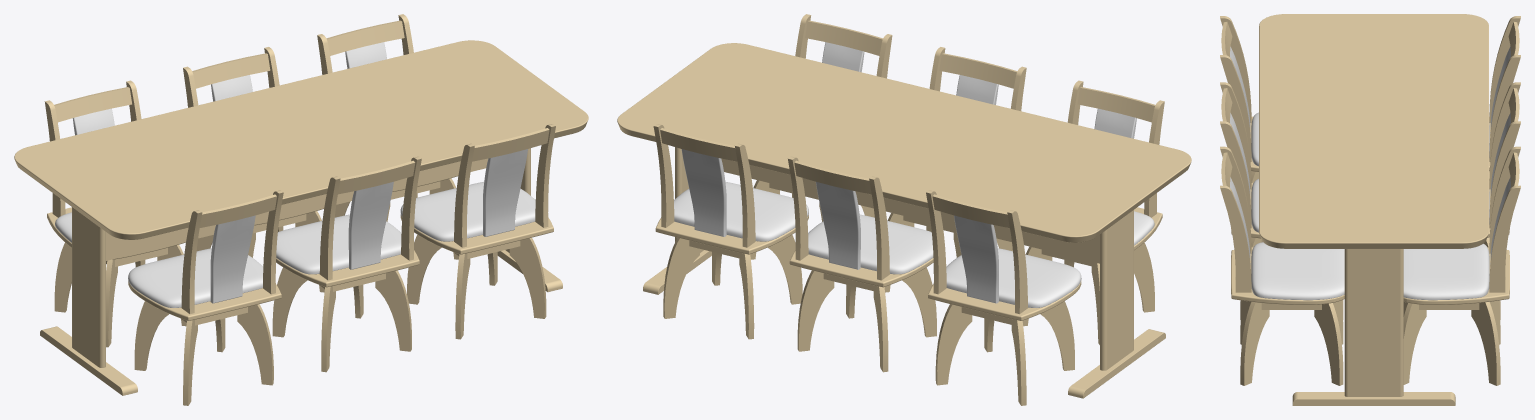
The model's file is 530_ダイニングテーブルセット6人掛け.glb.
3 renders of one model, left to right at view 1: azimuth 30°, elevation 25°; view 2: azimuth 150°, elevation 25°; view 3: azimuth 270°, elevation 25°, orthographic.
Parts seen in each view (by area): view 1: Body, chair.003, chair.002, chair.005, chair, chair.001, chair.004; view 2: Body, chair, chair.001, chair.004, chair.003, chair.002, chair.005; view 3: Body, chair.005, chair.004, chair.002, chair.003, chair.001, chair.
Part boxes in pixels (x1,y1,x2,y2): Body: (14,40,588,395); chair.003: (128,190,283,405); chair.002: (272,156,421,372); chair.005: (400,124,555,339); chair: (44,80,186,347); chair.001: (183,47,324,292); chair.004: (317,14,458,259); Body: (617,43,1191,398); chair: (926,190,1081,405); chair.001: (788,156,936,372); chair.004: (653,124,808,339); chair.003: (1023,80,1164,344); chair.002: (884,47,1026,292); chair.005: (750,14,892,259); Body: (1259,14,1488,405); chair.005: (1220,146,1344,385); chair.004: (1403,146,1520,385); chair.002: (1220,82,1343,319); chair.003: (1220,16,1258,182); chair.001: (1483,82,1520,319); chair: (1489,16,1520,182).
Size of the model in its own units: 2 by 0.8011 by 1.11.
